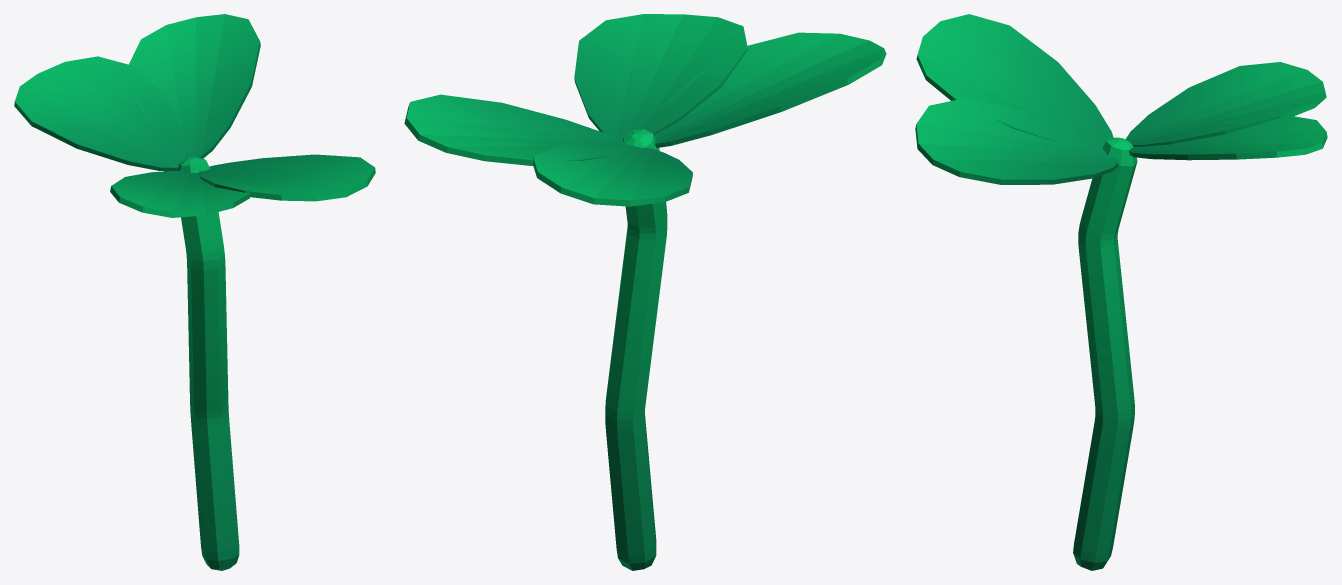
File: Trevo2Folhas.fbx
3 views of the same model, side by side, from view 1: azimuth 30°, elevation 25°; view 2: azimuth 150°, elevation 25°; view 3: azimuth 270°, elevation 25° (orthographic). The views are drawn at different scales.
Visible parts, largest first — view 1: Plane.007; view 2: Plane.007; view 3: Plane.007.
Boxes of the visible parts, x1,y1,x2,y2 form: Plane.007: (14, 14, 375, 570); Plane.007: (404, 14, 886, 570); Plane.007: (915, 14, 1327, 570).
Bounding box in the file's own units: 18.78 × 29.46 × 23.07.
Materials: 1 (1 with a texture image).
